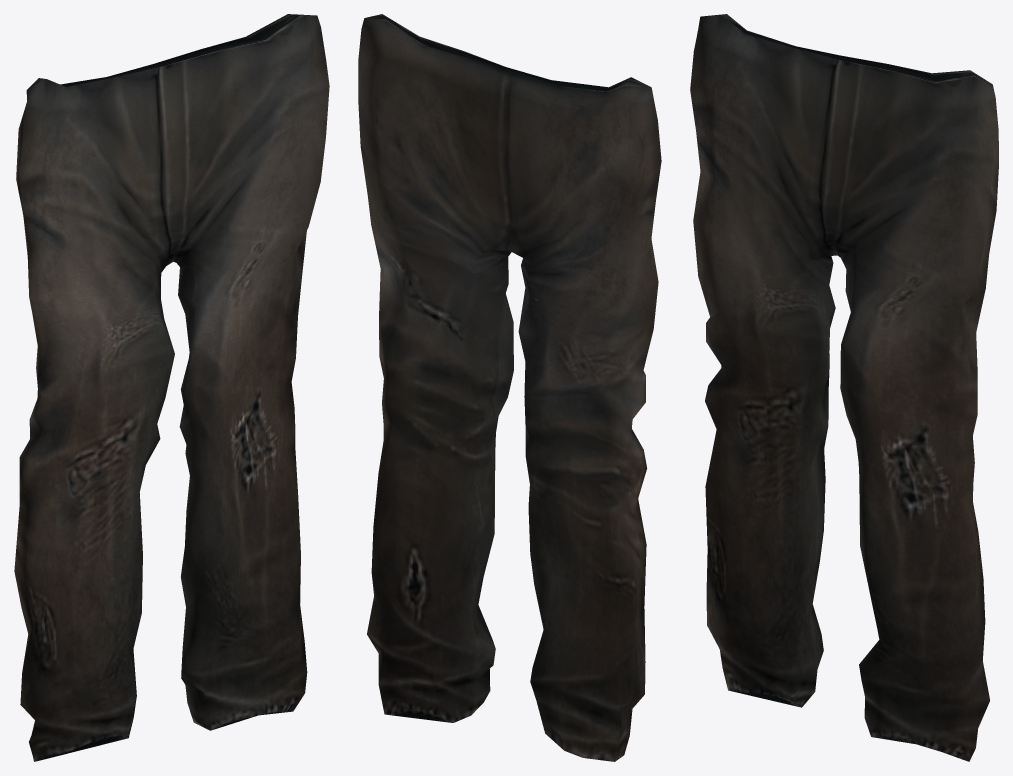
File: pants_pegged_straight.dae
The picture shows the model from 3 angles, left to right: view 1: azimuth 30°, elevation 25°; view 2: azimuth 150°, elevation 25°; view 3: azimuth 330°, elevation 25°; orthographic projection. The views are drawn at different scales.
Visible parts, largest first — view 1: pants_pegged_straight; view 2: pants_pegged_straight; view 3: pants_pegged_straight.
Part boxes in pixels (x1,y1,x2,y2): pants_pegged_straight: [14, 14, 329, 761]; pants_pegged_straight: [358, 14, 661, 761]; pants_pegged_straight: [690, 14, 998, 761].
Size of the model in its own units: 0.4165 by 0.9026 by 0.0788.
